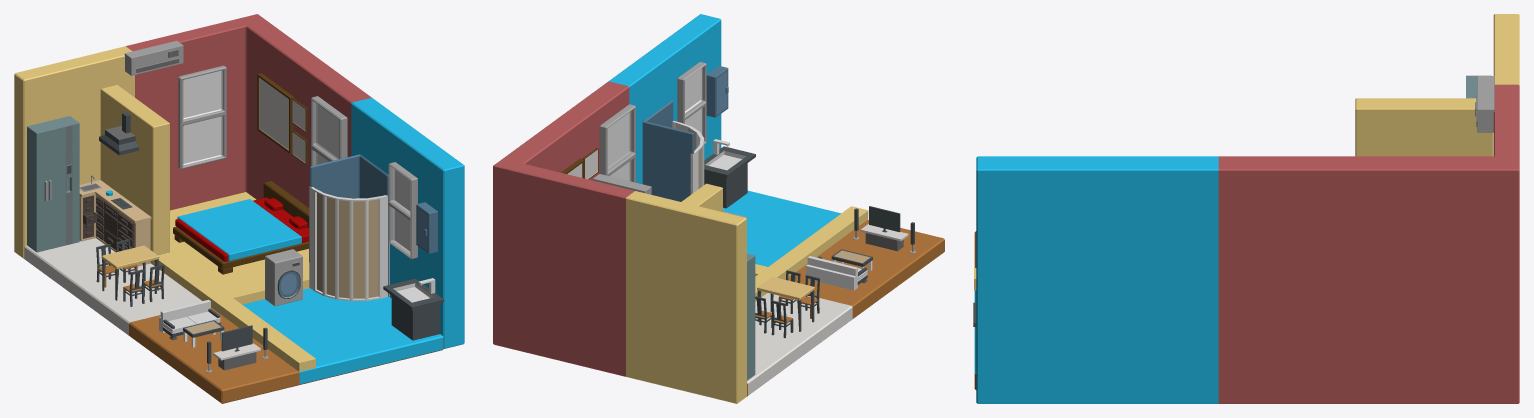
The model's file is house.glb.
3 renders of one model, left to right at view 1: azimuth 30°, elevation 25°; view 2: azimuth 150°, elevation 25°; view 3: azimuth 270°, elevation 25°, orthographic. The views are drawn at different scales.
Visible parts, largest first — view 1: Cube.001, Cube, Cube.012, Plane.015, Plane.010, Cube.007, Plane.021, Cube.002, Cube.006, Cube.011, Plane.024, Cube.010 (+18 smaller); view 2: Cube.001, Cube, Cube.011, Cube.002, Cube.005, Plane.024, Cube.010, Plane.009, Plane.004, Plane.010, Plane.023, Cube.012 (+7 smaller); view 3: Cube.001, Plane.015, Cube.008.
Part boxes in pixels (x1=…): Cube.001: x1=14, y1=14, x2=464, y2=348; Cube: x1=24, y1=192, x2=443, y2=403; Cube.012: x1=309, y1=186, x2=389, y2=301; Plane.015: x1=100, y1=85, x2=169, y2=254; Plane.010: x1=27, y1=116, x2=79, y2=252; Cube.007: x1=178, y1=65, x2=226, y2=169; Plane.021: x1=177, y1=199, x2=301, y2=261; Cube.002: x1=150, y1=252, x2=315, y2=371; Cube.006: x1=257, y1=73, x2=307, y2=164; Cube.011: x1=310, y1=154, x2=388, y2=296; Plane.024: x1=383, y1=278, x2=443, y2=340; Cube.010: x1=388, y1=162, x2=417, y2=259; Cube.001: x1=493, y1=14, x2=746, y2=403; Cube: x1=723, y1=190, x2=944, y2=396; Cube.011: x1=642, y1=100, x2=693, y2=201; Cube.002: x1=755, y1=206, x2=868, y2=301; Cube.005: x1=599, y1=104, x2=635, y2=182; Plane.024: x1=704, y1=139, x2=755, y2=208; Cube.010: x1=677, y1=62, x2=706, y2=143; Plane.009: x1=755, y1=270, x2=819, y2=337; Plane.004: x1=806, y1=256, x2=867, y2=290; Plane.010: x1=747, y1=253, x2=755, y2=380; Plane.023: x1=706, y1=66, x2=728, y2=117; Cube.012: x1=672, y1=121, x2=704, y2=194; Cube.001: x1=976, y1=14, x2=1519, y2=403; Plane.015: x1=1355, y1=98, x2=1493, y2=156; Cube.008: x1=1475, y1=76, x2=1494, y2=132.
Size of what is drawn, in the model's own units: 28.52 by 20.24 by 42.13.
